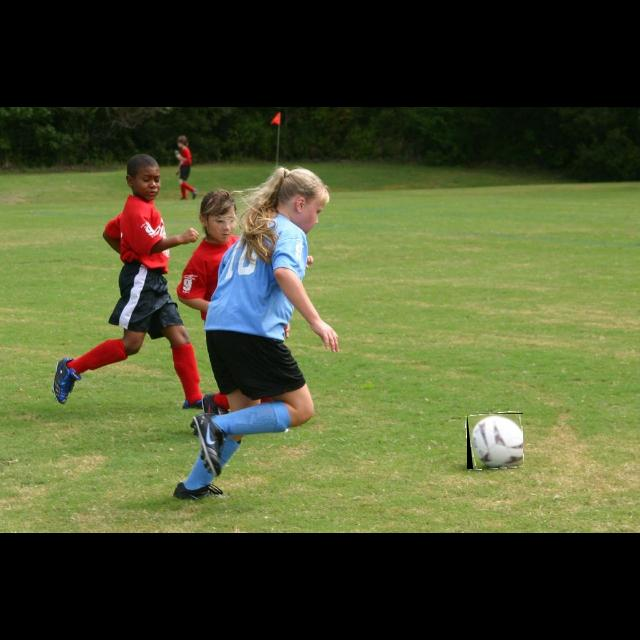Football: (467, 413, 523, 469)
